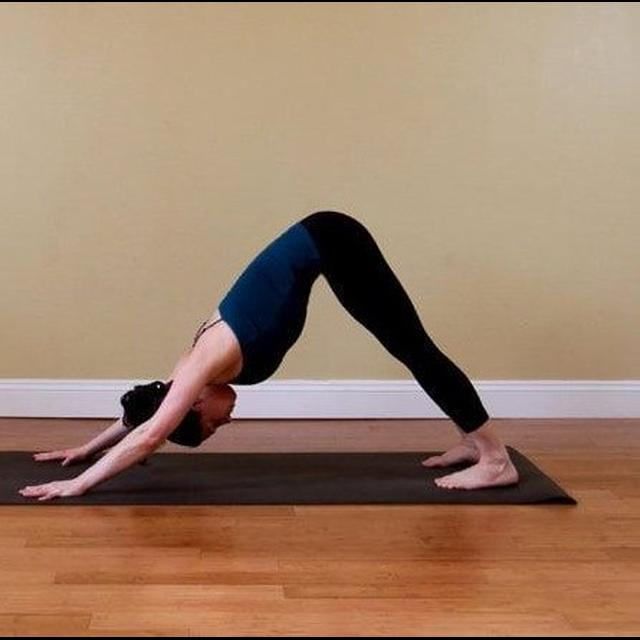Downward-Facing_Dog: (11, 202, 526, 503)
